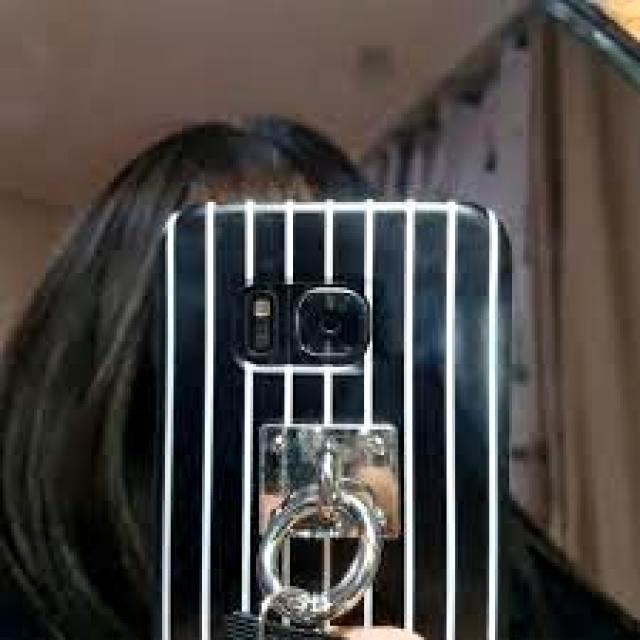lens_back: (290, 277, 378, 368)
phone: (162, 197, 511, 640)
